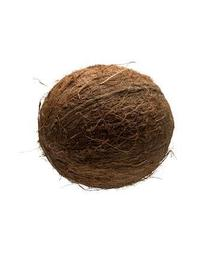coconut: (36, 62, 174, 188)
